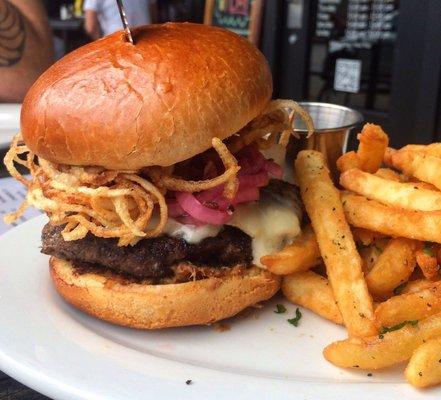pizza: (288, 101, 364, 186)
soup: (10, 18, 319, 332)
